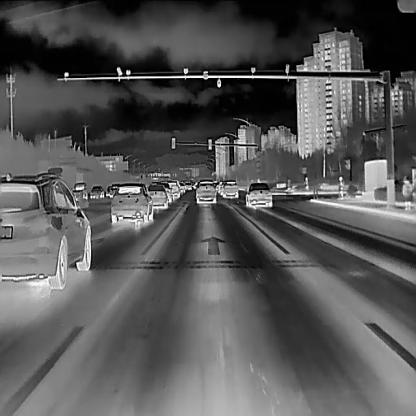car: (1, 164, 91, 292), (109, 183, 153, 223), (245, 181, 272, 207), (147, 182, 166, 208), (195, 180, 215, 204), (402, 175, 412, 209), (71, 181, 87, 202), (156, 182, 172, 203), (222, 179, 238, 197), (168, 180, 180, 198), (89, 184, 103, 198), (338, 176, 344, 200), (107, 184, 115, 198), (183, 180, 191, 191), (304, 176, 309, 190)
